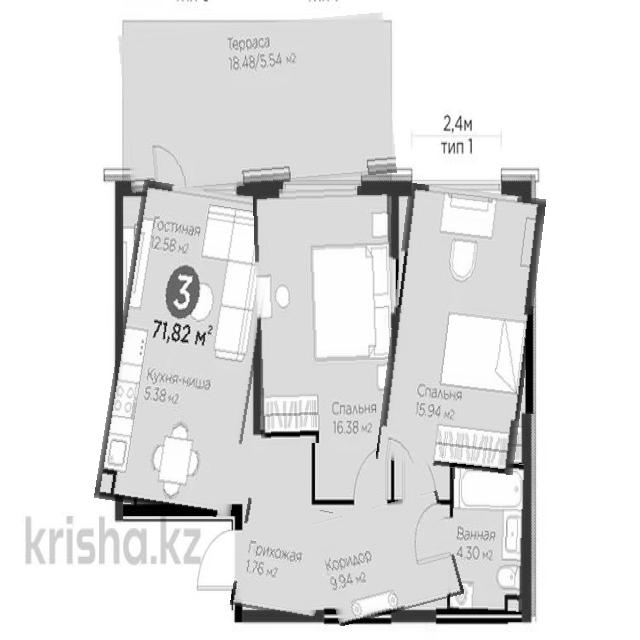balcony: (121, 18, 394, 189)
bathroom: (449, 462, 529, 611)
hallway: (318, 498, 459, 619), (235, 501, 329, 616)
living_room: (384, 186, 538, 472), (255, 186, 397, 443)
studio: (106, 185, 268, 515)
